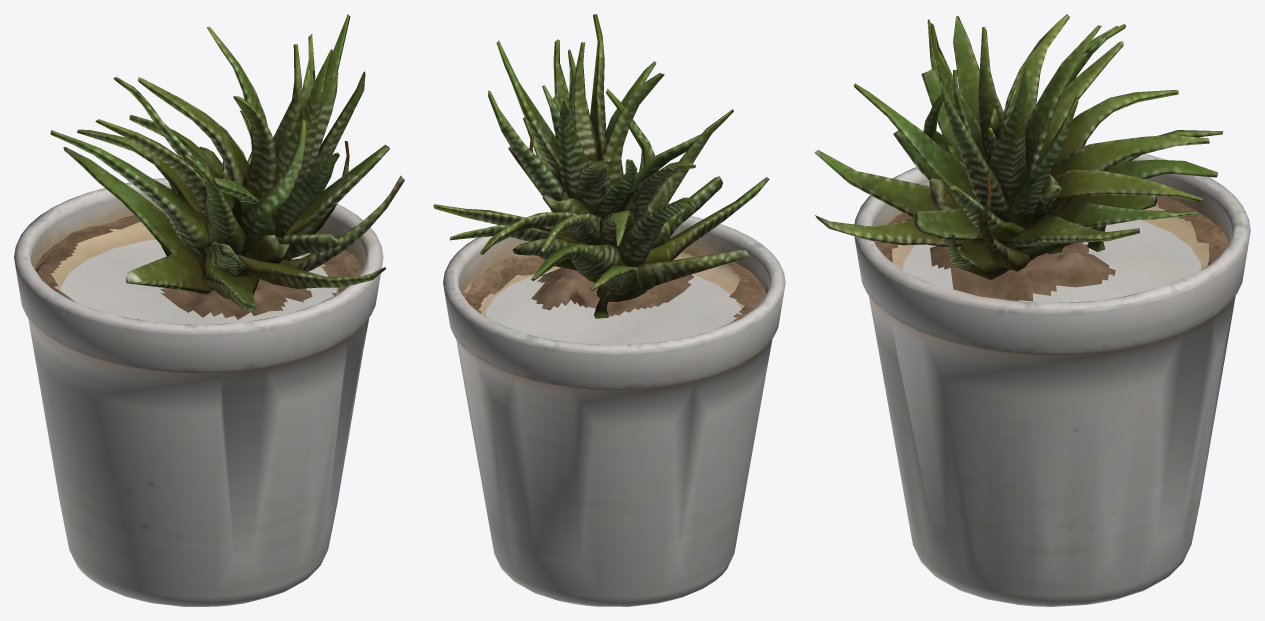
Rendered from aloe.glb.
The picture shows the model from 3 angles, left to right: view 1: azimuth 30°, elevation 25°; view 2: azimuth 150°, elevation 25°; view 3: azimuth 270°, elevation 25°; orthographic projection. The views are drawn at different scales.
Visible parts, largest first — view 1: potted_plant_04_pot, potted_plant_04_plant, potted_plant_04_dirt; view 2: potted_plant_04_pot, potted_plant_04_plant, potted_plant_04_dirt; view 3: potted_plant_04_pot, potted_plant_04_plant, potted_plant_04_dirt.
Part boxes in pixels (x1,y1,x2,y2): potted_plant_04_pot: [14, 178, 383, 606]; potted_plant_04_plant: [50, 14, 404, 311]; potted_plant_04_dirt: [34, 211, 362, 319]; potted_plant_04_pot: [443, 216, 785, 606]; potted_plant_04_plant: [433, 14, 769, 318]; potted_plant_04_dirt: [462, 247, 766, 321]; potted_plant_04_pot: [854, 145, 1250, 606]; potted_plant_04_plant: [814, 14, 1223, 279]; potted_plant_04_dirt: [875, 196, 1228, 301].
Size of the model in its own units: 0.1679 by 0.2672 by 0.1845.
Materials: 1 (1 with a texture image).
